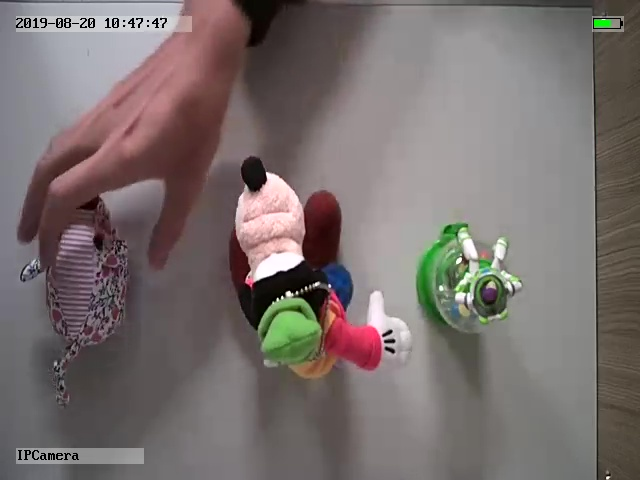buzz: (417, 220, 525, 337)
goofy: (224, 155, 415, 383)
pig: (21, 184, 134, 406)
